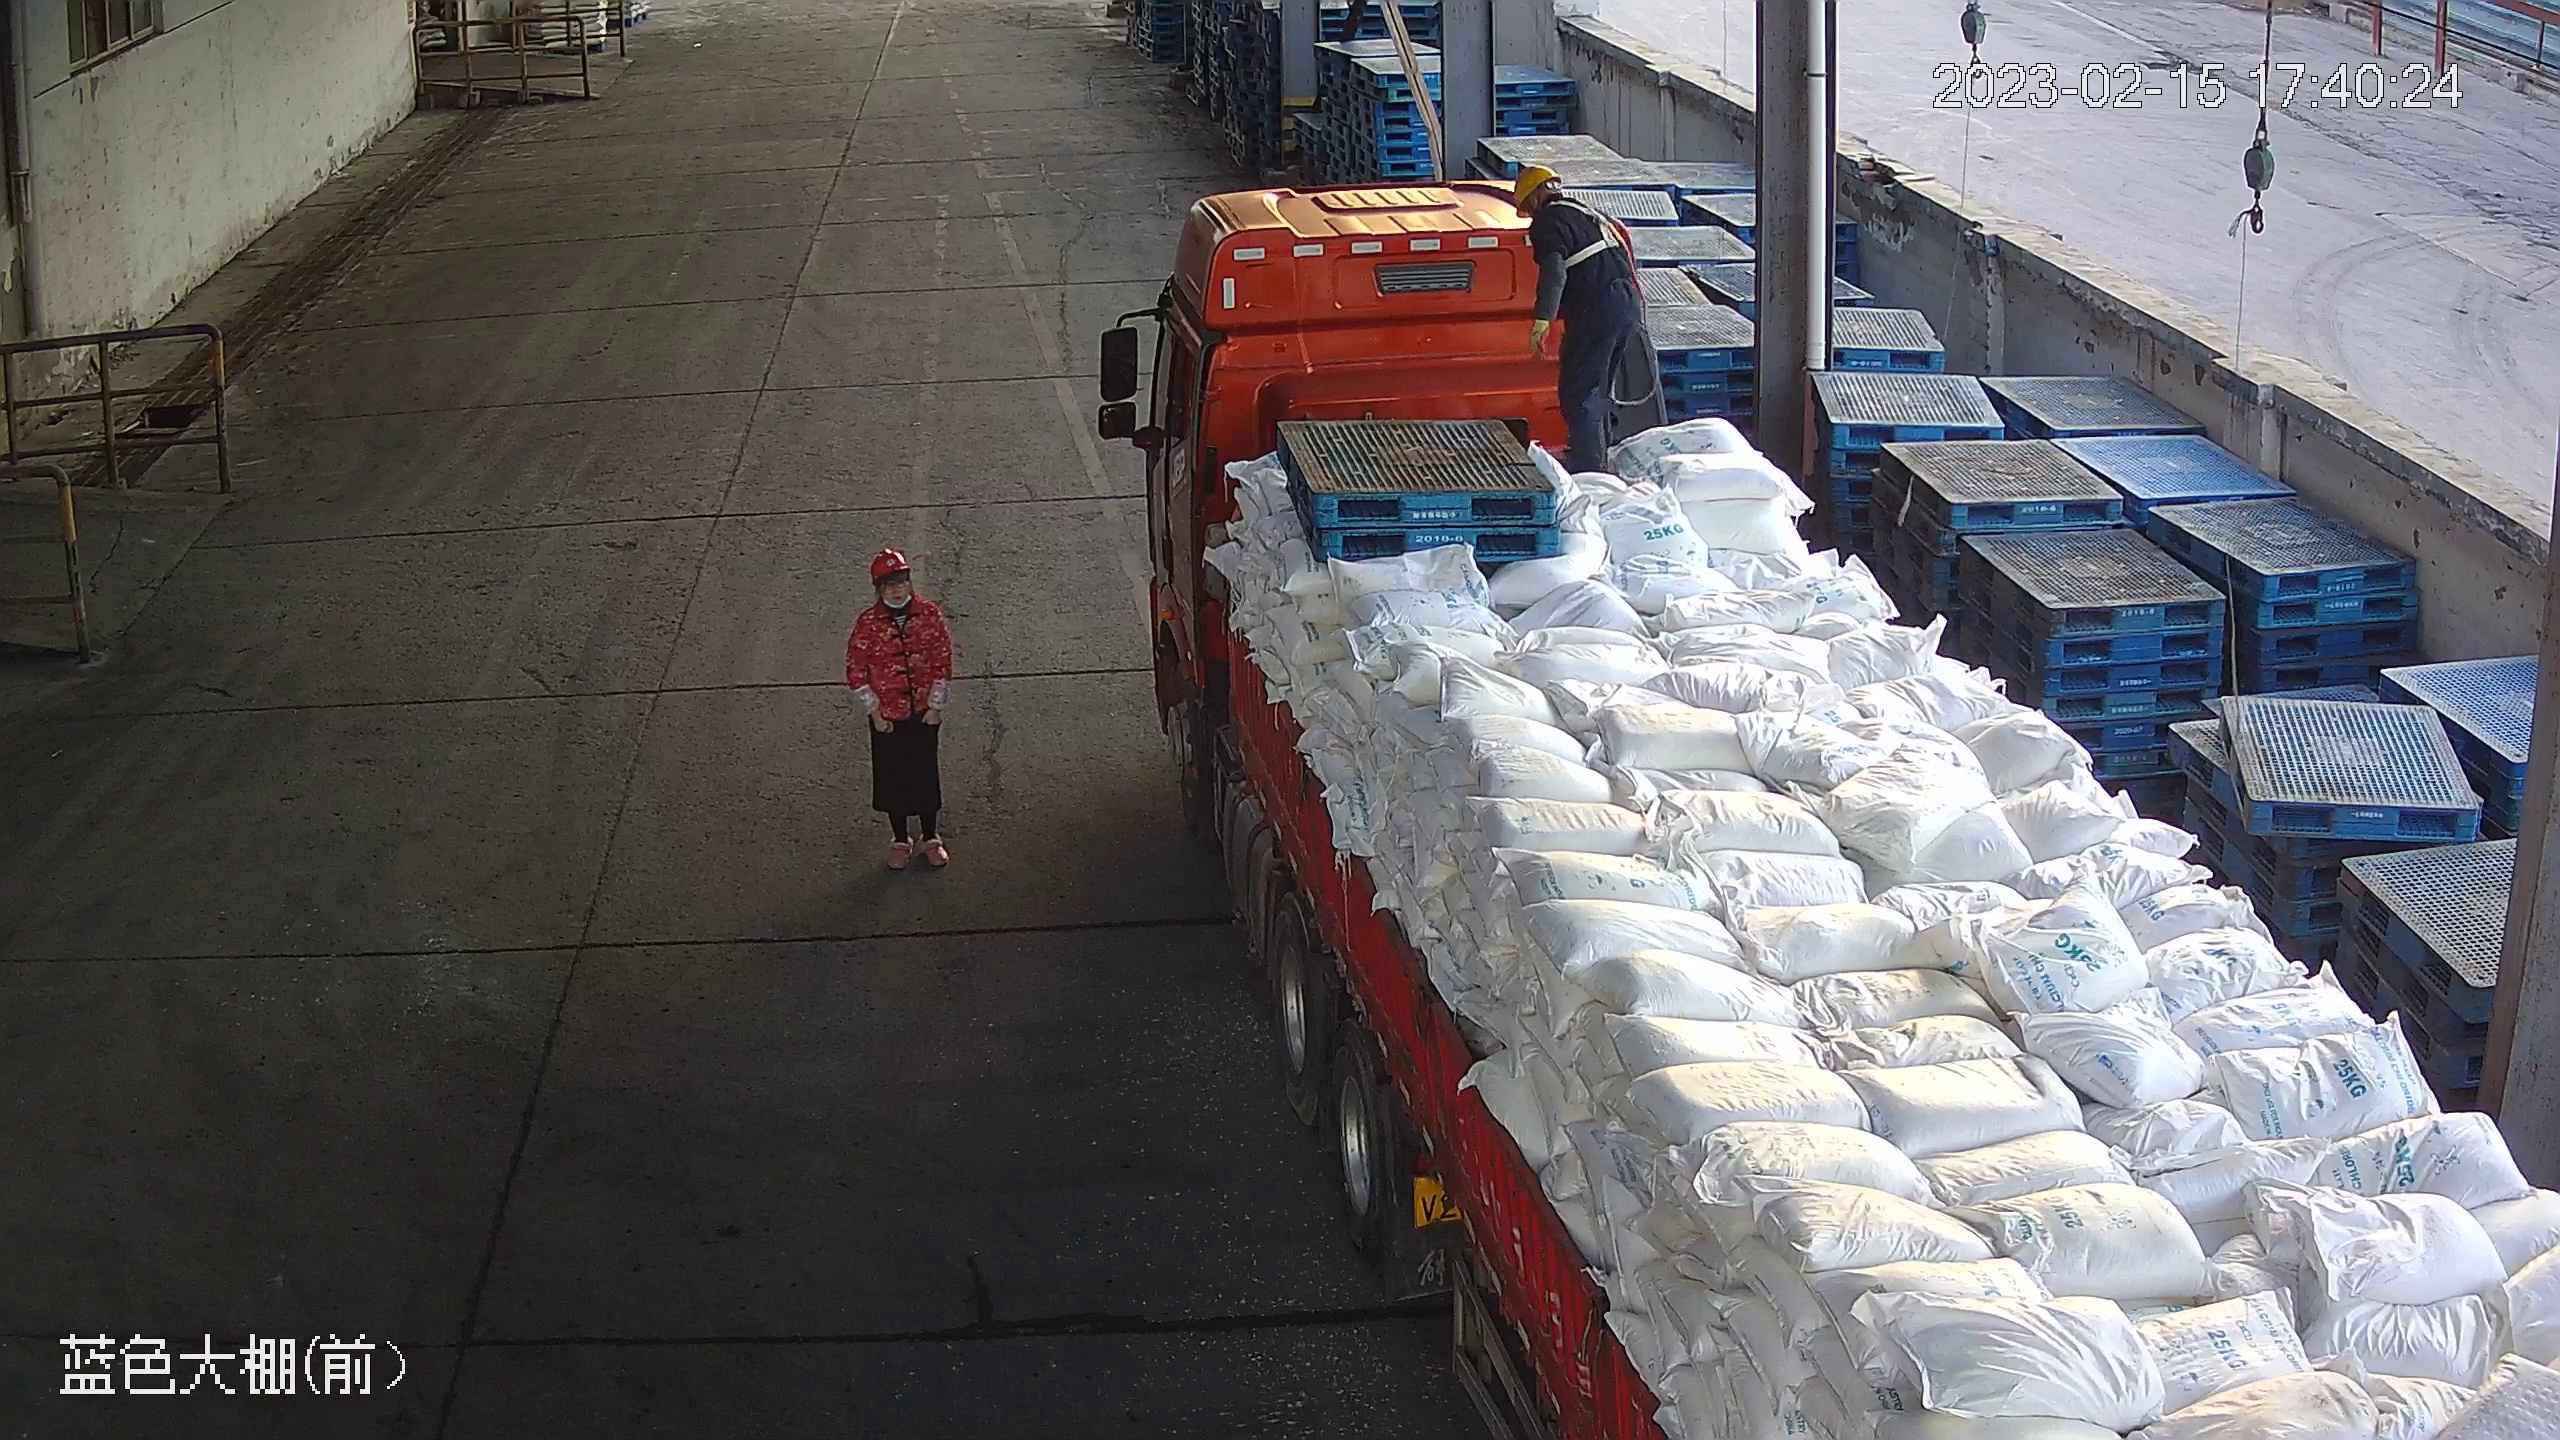belt: (1544, 193, 1637, 262)
head: (1516, 161, 1615, 250), (849, 546, 948, 633)
helmet: (1511, 164, 1564, 218), (869, 547, 913, 583)
people: (1519, 160, 1668, 481), (841, 543, 963, 867)
truck: (1140, 177, 2558, 1440)
